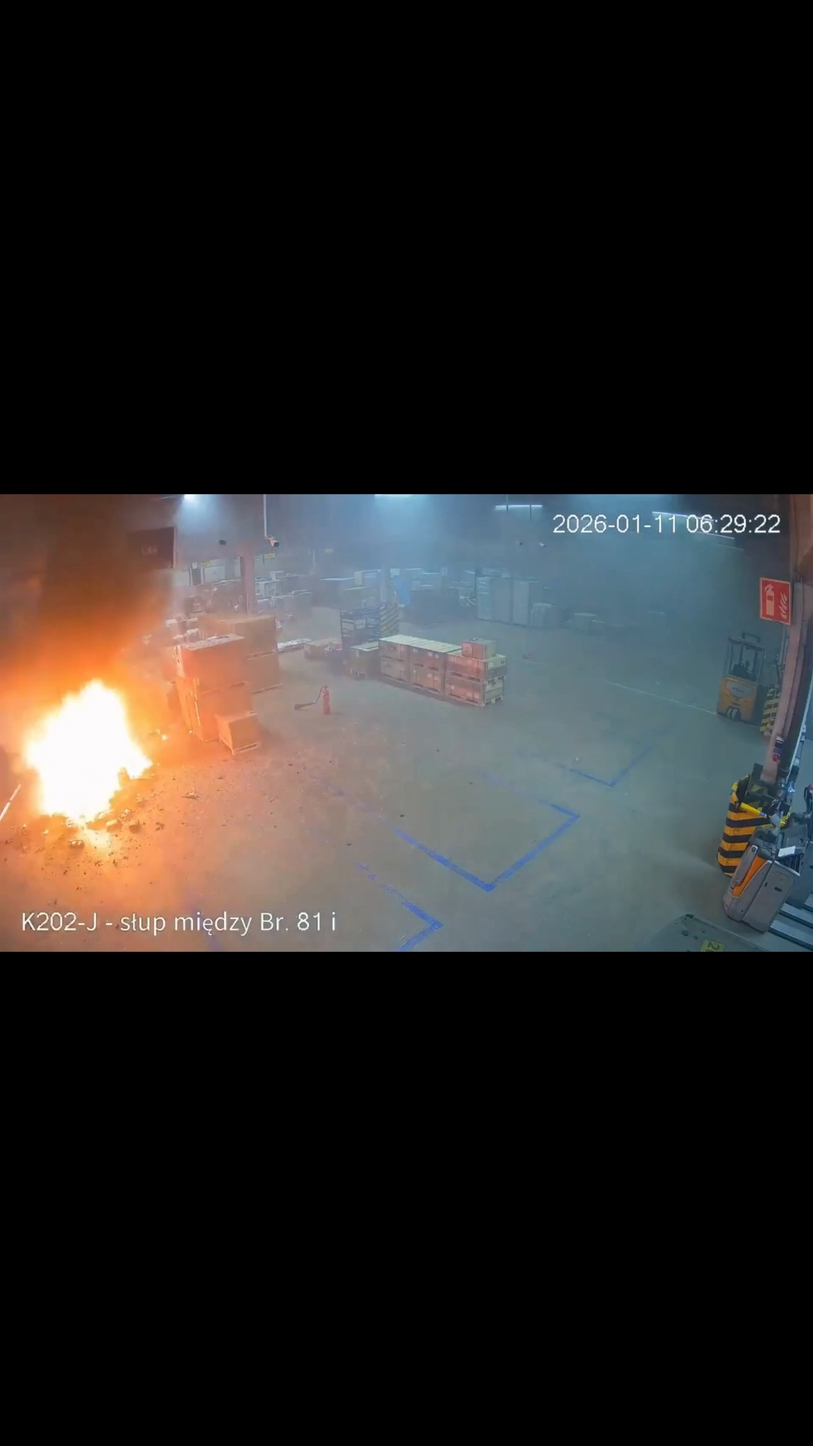fire: (18, 650, 192, 877)
